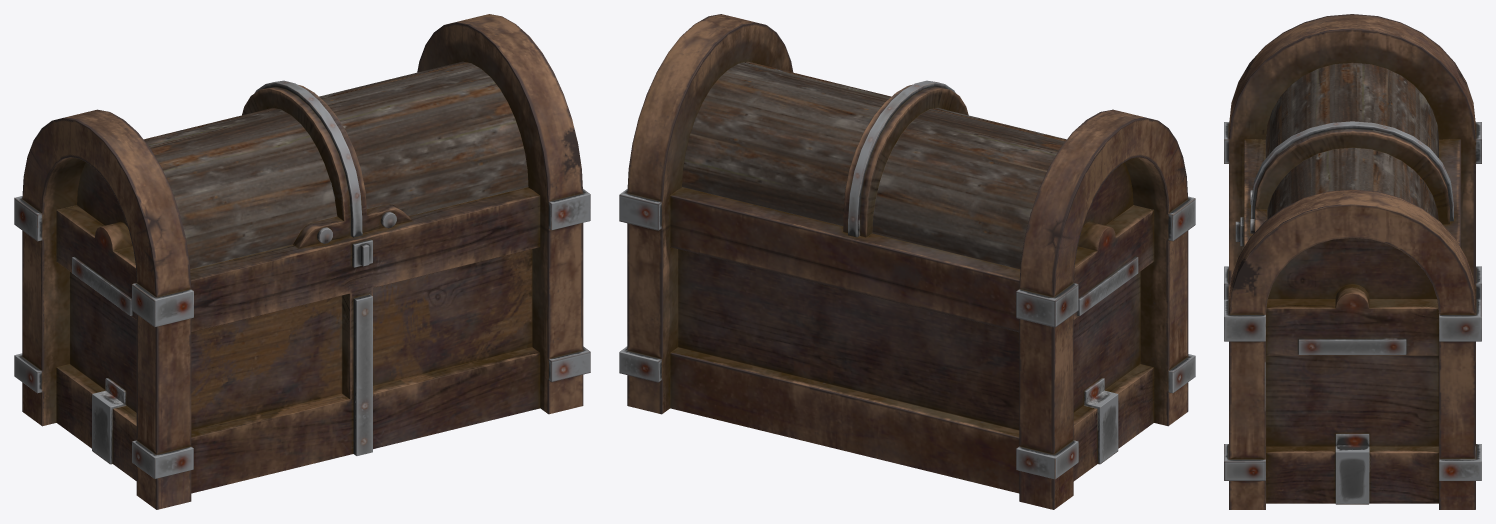
Rendered from medevial_chest.glb.
The picture shows the model from 3 angles, left to right: view 1: azimuth 30°, elevation 25°; view 2: azimuth 150°, elevation 25°; view 3: azimuth 270°, elevation 25°; orthographic projection. The views are drawn at different scales.
Visible parts, largest first — view 1: cbest low; view 2: cbest low; view 3: cbest low.
Boxes of the visible parts, box(x1,y1,x2,y2) form: cbest low: box(14, 14, 590, 509); cbest low: box(619, 14, 1195, 509); cbest low: box(1224, 14, 1481, 509).
Size of the model in its own units: 1.43 by 1.04 by 0.7979.
Materials: 1 (1 with a texture image).
